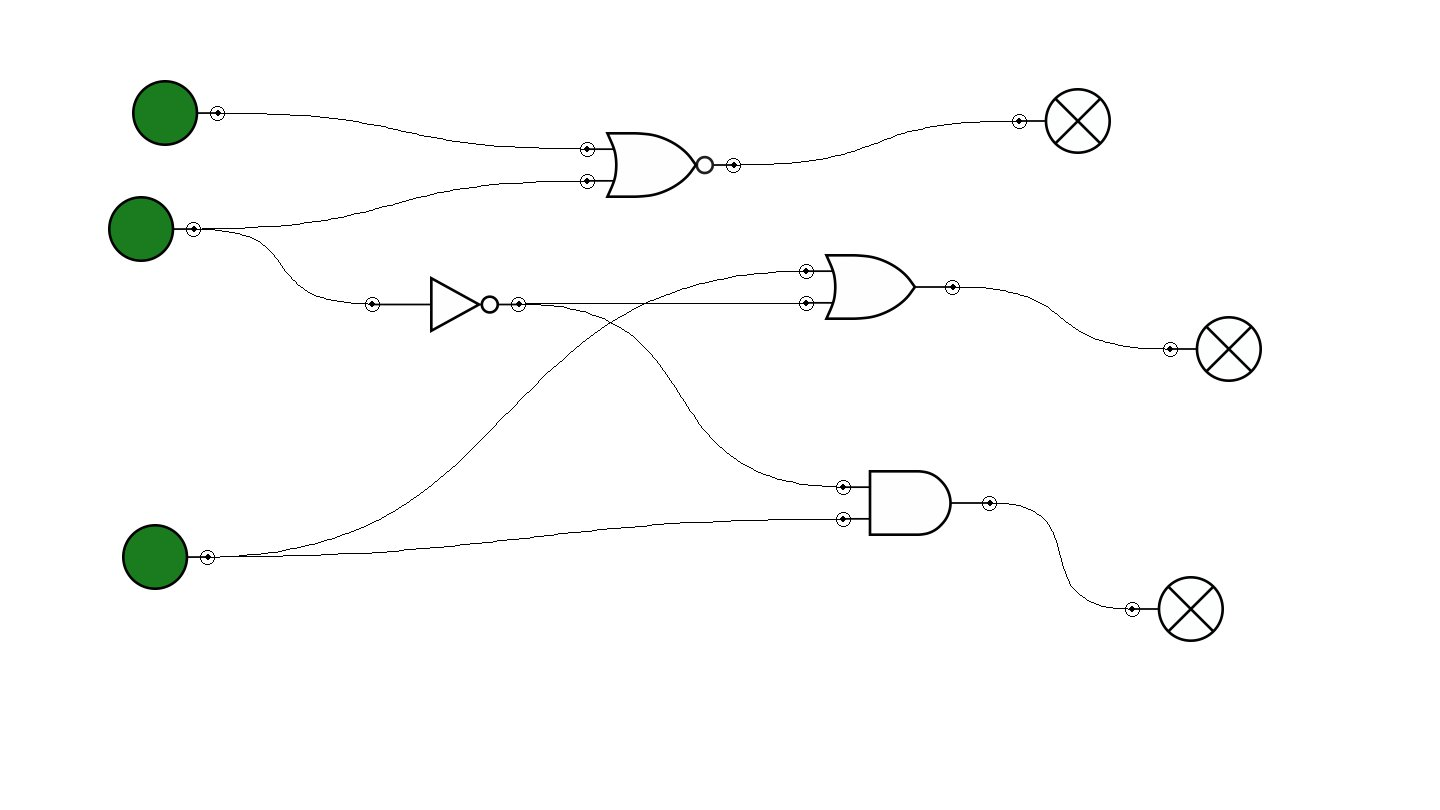and: (836, 470, 997, 536)
bulb: (1012, 88, 1111, 154), (1163, 316, 1262, 382), (1125, 576, 1224, 642)
nor: (580, 132, 741, 198)
not: (365, 276, 526, 333)
or: (799, 254, 960, 320)
switch_True: (108, 196, 201, 262), (122, 524, 215, 590), (132, 80, 225, 146)
